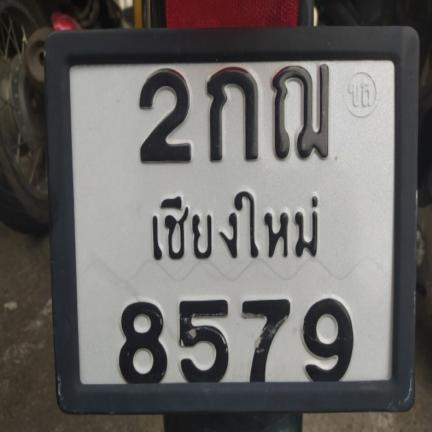2: (134, 65, 196, 165)
5: (174, 292, 231, 383)
7: (235, 296, 294, 385)
8: (117, 295, 169, 384)
9: (303, 296, 358, 382)
A01: (204, 63, 259, 161)
A12: (267, 63, 334, 163)
CMI: (134, 184, 322, 268)
